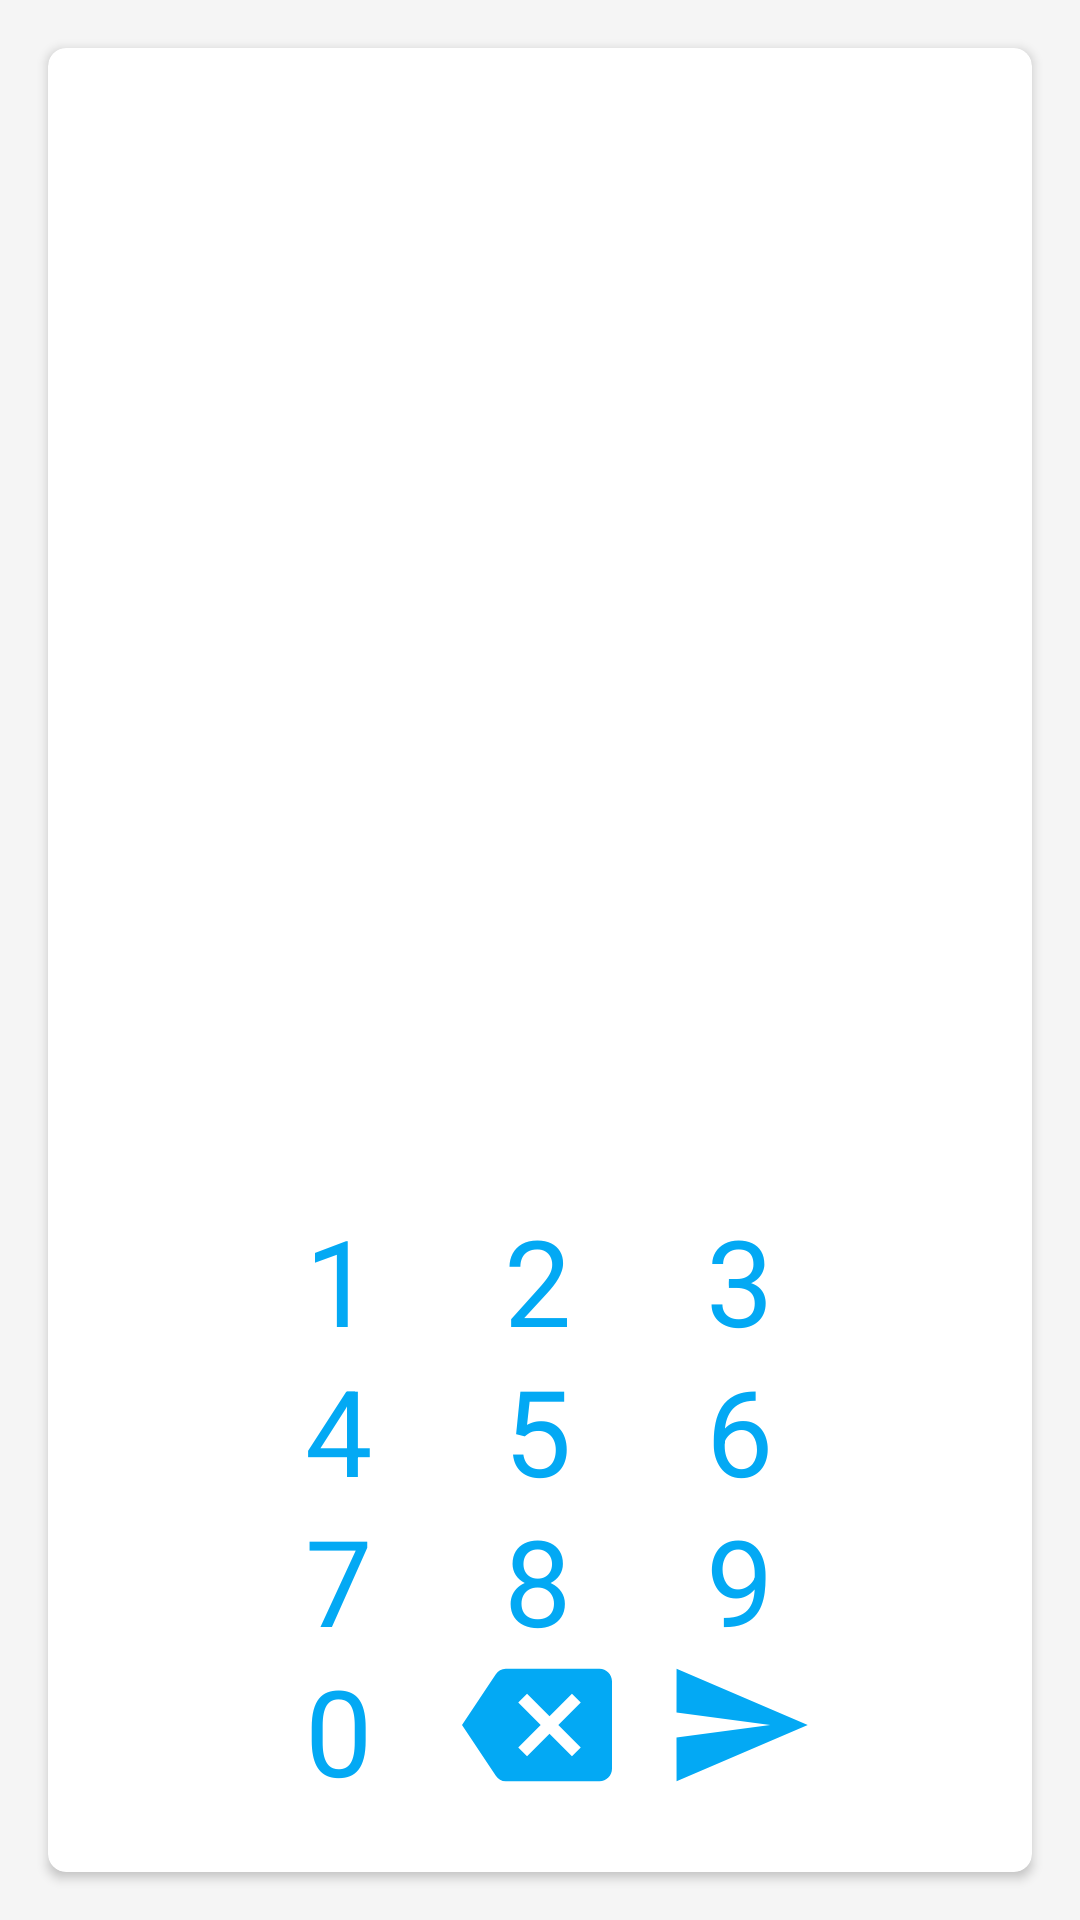

Named icons in this screenshot (1080px×1920px) and their centers, point (x, y):
backspace: point (537, 1725)
send: point (742, 1725)
